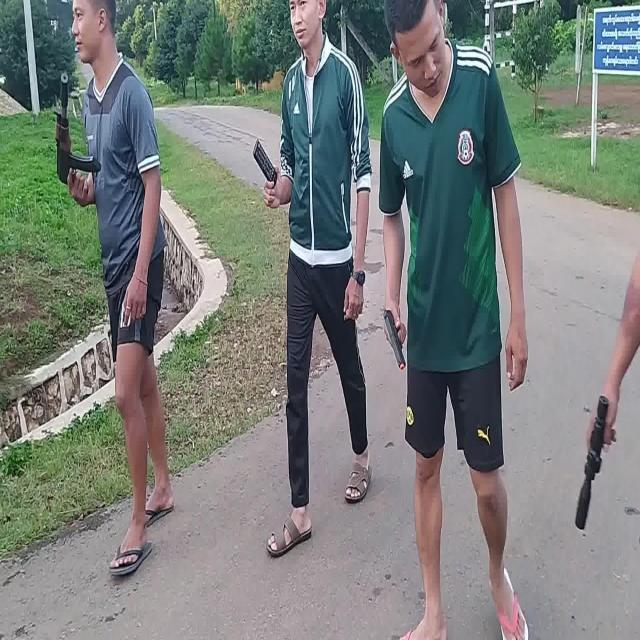gun: (54, 76, 100, 186), (383, 307, 406, 373)
